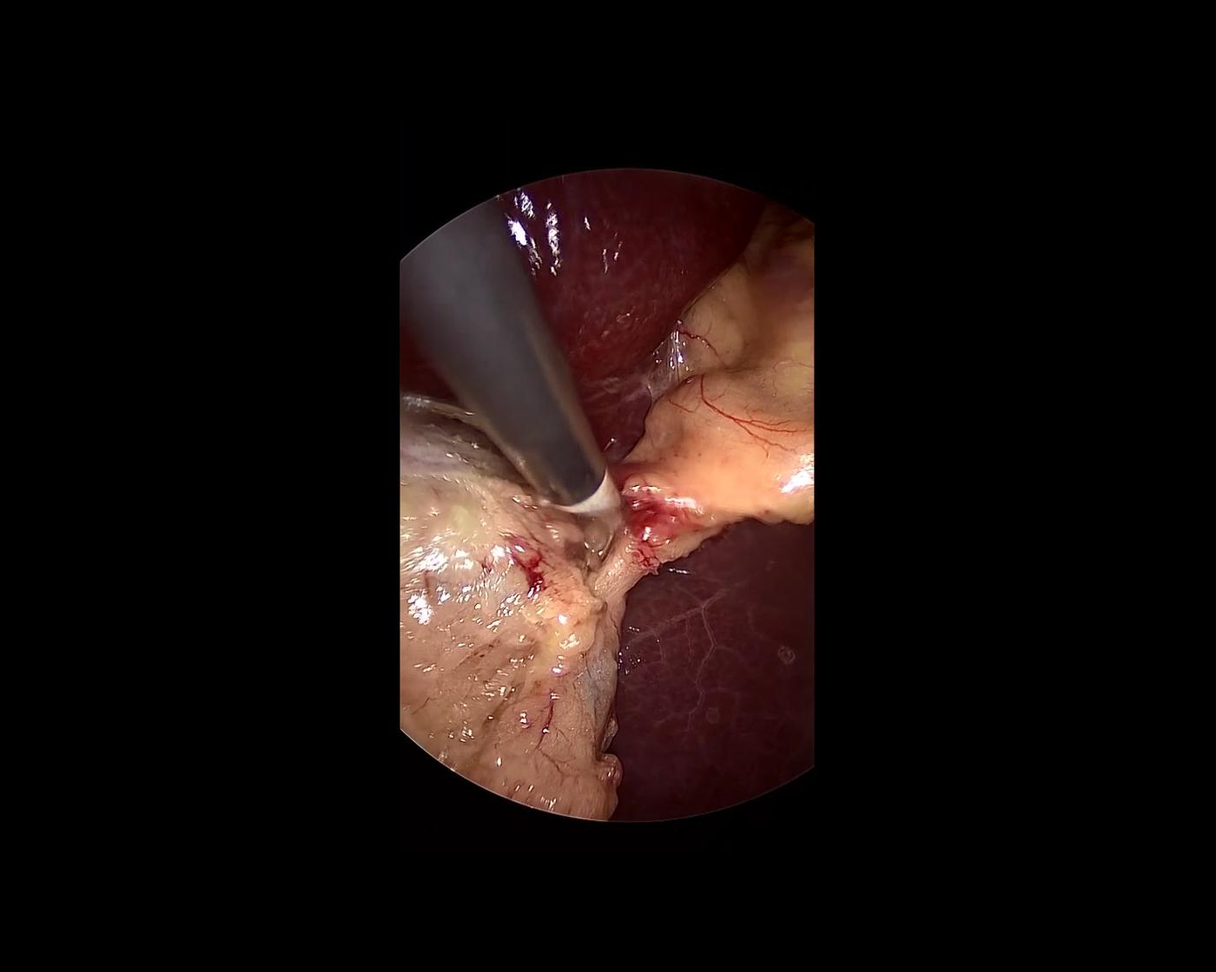Cautery: (372, 194, 644, 599)
Gallbladder: (398, 392, 621, 822)
Liver: (412, 90, 766, 472), (608, 516, 816, 822)
